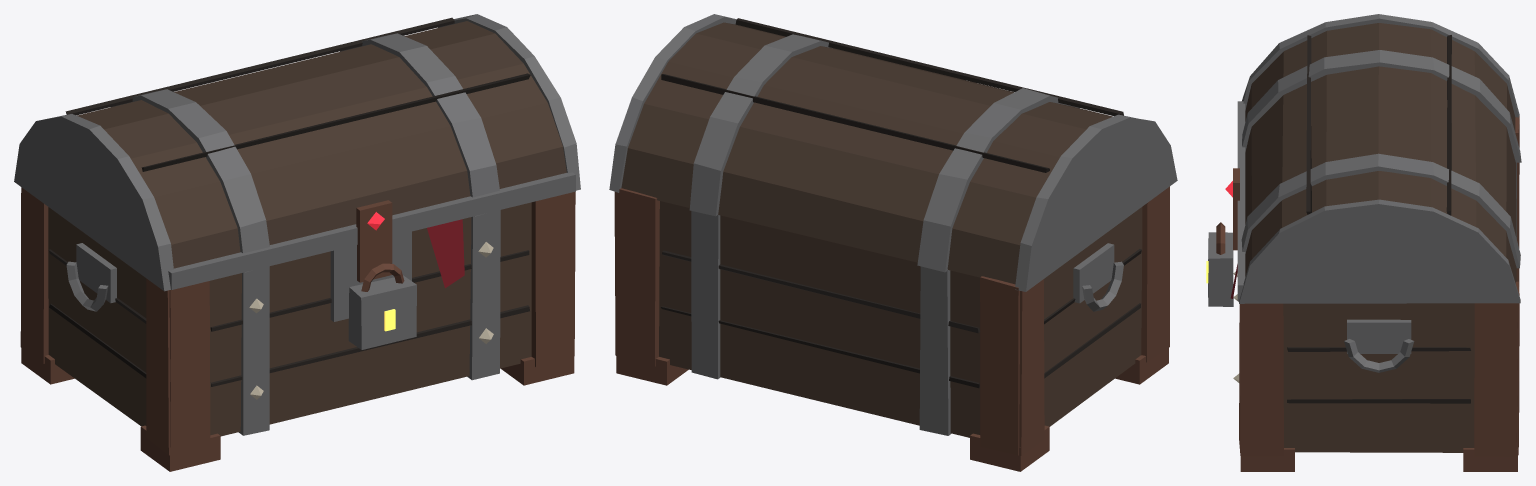
Rendered from chest.glb.
3 renders of one model, left to right at view 1: azimuth 30°, elevation 25°; view 2: azimuth 150°, elevation 25°; view 3: azimuth 270°, elevation 25°, orthographic. The views are drawn at different scales.
Parts seen in each view (by area): view 1: lid, body, lid_cap_l, bracket_fl, lid_lip, bracket_fr, band_lid_l, band_lid_r, band_body_r, band_body_l, bracket_bl, padlock (+11 smaller); view 2: lid, body, lid_cap_l, bracket_bl, bracket_br, band_lid_l, band_lid_r, band_body_l, band_body_r, bracket_fl, lid_cap_r, plank_seams_0 (+6 smaller); view 3: lid, body, lid_cap_r, bracket_br, bracket_fr, band_lid_r, band_lid_l, lid_cap_l, handle_plate_r, padlock, lid_lip, foot_br (+6 smaller).
Part boxes in pixels (bbox=[...]): lid: bbox=[65, 17, 566, 268]; body: bbox=[48, 202, 531, 436]; lid_cap_l: bbox=[14, 114, 173, 291]; bracket_fl: bbox=[146, 278, 210, 455]; lid_lip: bbox=[168, 172, 575, 289]; bracket_fr: bbox=[531, 191, 575, 366]; band_lid_l: bbox=[111, 89, 269, 272]; band_lid_r: bbox=[340, 33, 499, 216]; band_body_r: bbox=[467, 210, 500, 380]; band_body_l: bbox=[238, 266, 269, 435]; bracket_bl: bbox=[20, 187, 48, 363]; padlock: bbox=[348, 275, 416, 349]; lid: bbox=[621, 18, 1123, 284]; body: bbox=[659, 201, 1142, 437]; lid_cap_l: bbox=[1015, 114, 1177, 291]; bracket_bl: bbox=[980, 276, 1044, 455]; bracket_br: bbox=[614, 188, 659, 366]; band_lid_l: bbox=[917, 88, 1079, 272]; band_lid_r: bbox=[689, 34, 832, 216]; band_body_l: bbox=[919, 266, 951, 435]; band_body_r: bbox=[691, 211, 720, 379]; bracket_fl: bbox=[1141, 186, 1169, 362]; lid_cap_r: bbox=[609, 14, 736, 192]; plank_seams_0: bbox=[661, 303, 1140, 388]; lid: bbox=[1245, 23, 1516, 283]; body: bbox=[1283, 303, 1474, 452]; lid_cap_r: bbox=[1239, 199, 1520, 303]; bracket_br: bbox=[1474, 281, 1519, 456]; bracket_fr: bbox=[1239, 303, 1283, 456]; band_lid_r: bbox=[1241, 153, 1520, 268]; band_lid_l: bbox=[1242, 50, 1521, 162]; lid_cap_l: bbox=[1242, 14, 1519, 117]; handle_plate_r: bbox=[1347, 319, 1411, 353]; padlock: bbox=[1208, 232, 1233, 306]; lid_lip: bbox=[1237, 101, 1245, 301]; foot_br: bbox=[1463, 448, 1517, 471].
Size of what is drawn, in the model's own units: 0.938 by 0.6065 by 0.6366.
